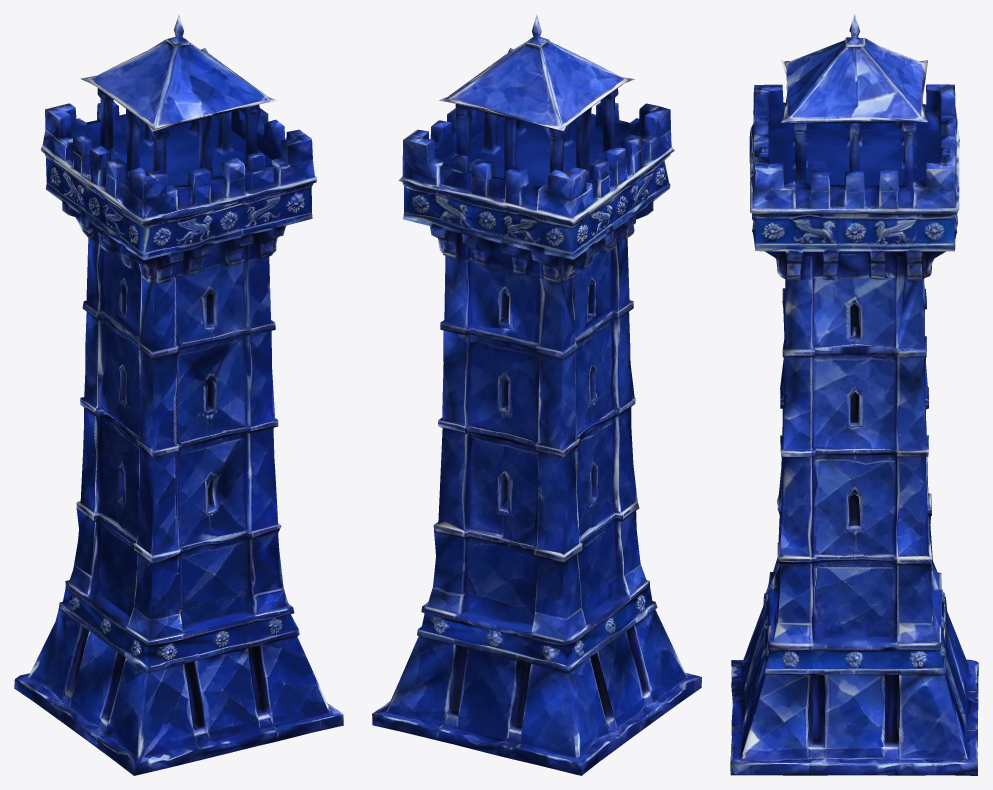
The model's file is castle_tower_tall_diamond_blue.glb.
3 views of the same model, side by side, from view 1: azimuth 30°, elevation 25°; view 2: azimuth 150°, elevation 25°; view 3: azimuth 270°, elevation 25° (orthographic). The views are drawn at different scales.
Parts seen in each view (by area): view 1: tripo_node_538a457f-a802-4703-9484-12cae799b872; view 2: tripo_node_538a457f-a802-4703-9484-12cae799b872; view 3: tripo_node_538a457f-a802-4703-9484-12cae799b872.
Part boxes in pixels (x1=…): tripo_node_538a457f-a802-4703-9484-12cae799b872: x1=14, y1=15, x2=343, y2=775; tripo_node_538a457f-a802-4703-9484-12cae799b872: x1=372, y1=14, x2=701, y2=775; tripo_node_538a457f-a802-4703-9484-12cae799b872: x1=730, y1=14, x2=978, y2=775.
Bounding box in the file's own units: 0.3111 × 0.9818 × 0.3111.
Materials: 1 (1 with a texture image).
